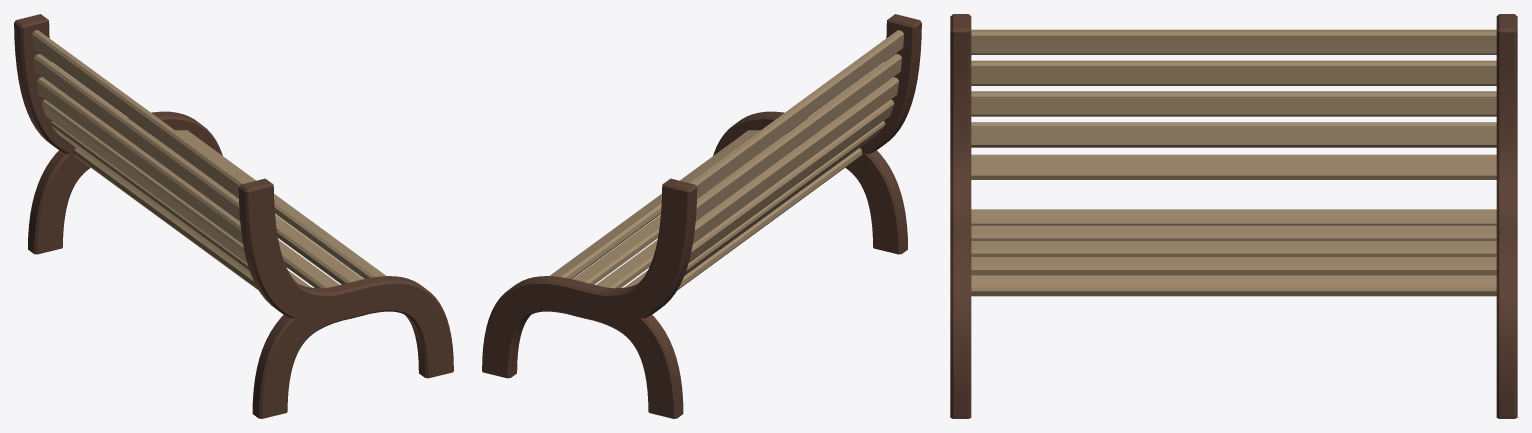
Rendered from Banco.fbx.
3 views of the same model, side by side, from view 1: azimuth 30°, elevation 25°; view 2: azimuth 150°, elevation 25°; view 3: azimuth 270°, elevation 25° (orthographic). The views are drawn at different scales.
Visible parts, largest first — view 1: Banco; view 2: Banco; view 3: Banco.
Boxes of the visible parts, x1=… form: Banco: x1=14, y1=14, x2=453, y2=418; Banco: x1=482, y1=14, x2=921, y2=418; Banco: x1=950, y1=14, x2=1517, y2=418.
Size of the model in its own units: 87.32 by 92.83 by 169.
